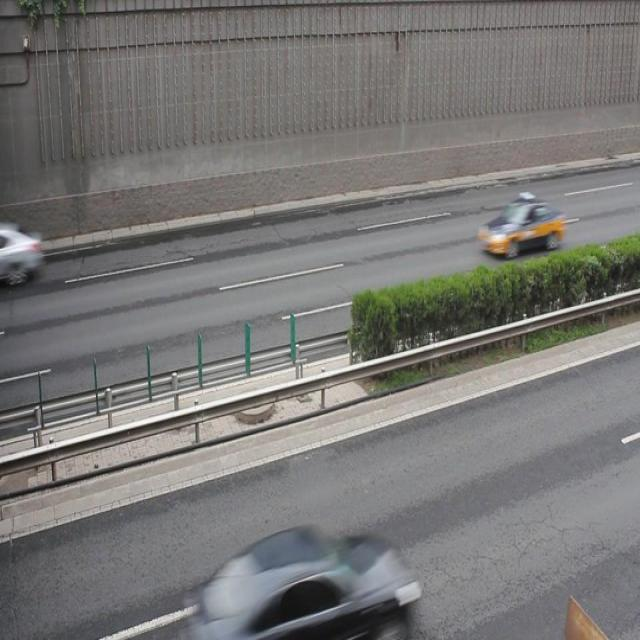car: (201, 525, 417, 640), (476, 194, 564, 256)
